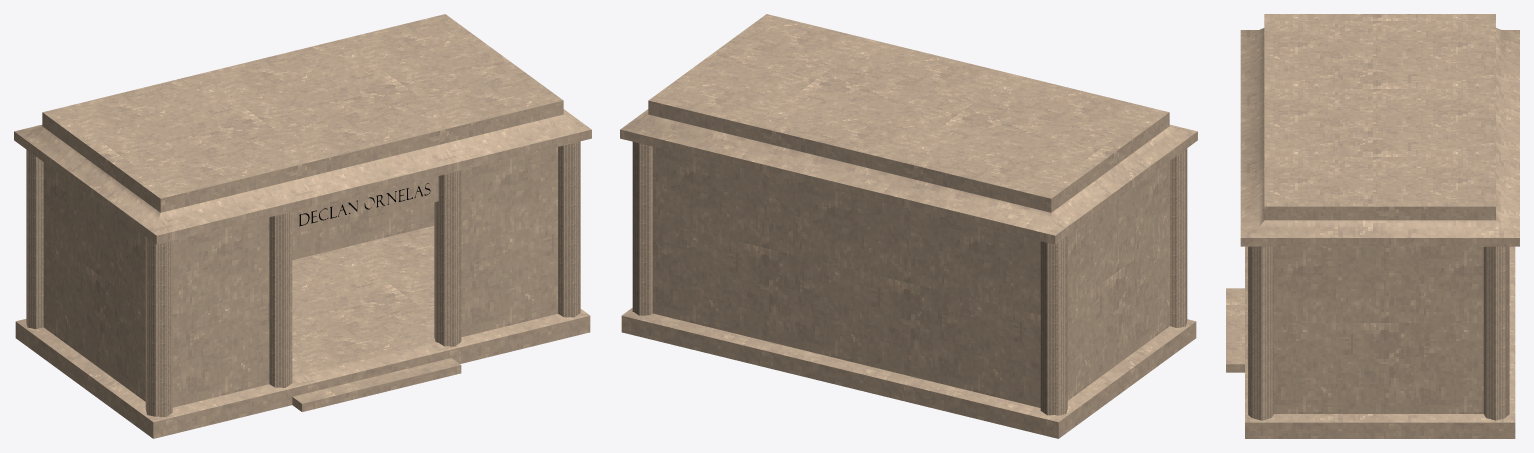
The model's file is Declan.fbx.
3 renders of one model, left to right at view 1: azimuth 30°, elevation 25°; view 2: azimuth 150°, elevation 25°; view 3: azimuth 270°, elevation 25°, orthographic. The views are drawn at different scales.
Visible parts, largest first — view 1: Declan_s_Moseleum; view 2: Declan_s_Moseleum; view 3: Declan_s_Moseleum.
Part boxes in pixels (box(x1,y1,x2,y2)): Declan_s_Moseleum: box(14, 14, 591, 438); Declan_s_Moseleum: box(620, 14, 1197, 438); Declan_s_Moseleum: box(1226, 14, 1519, 438).
Size of the model in its own units: 1098 by 549 by 652.
Materials: 9 (8 with a texture image).
